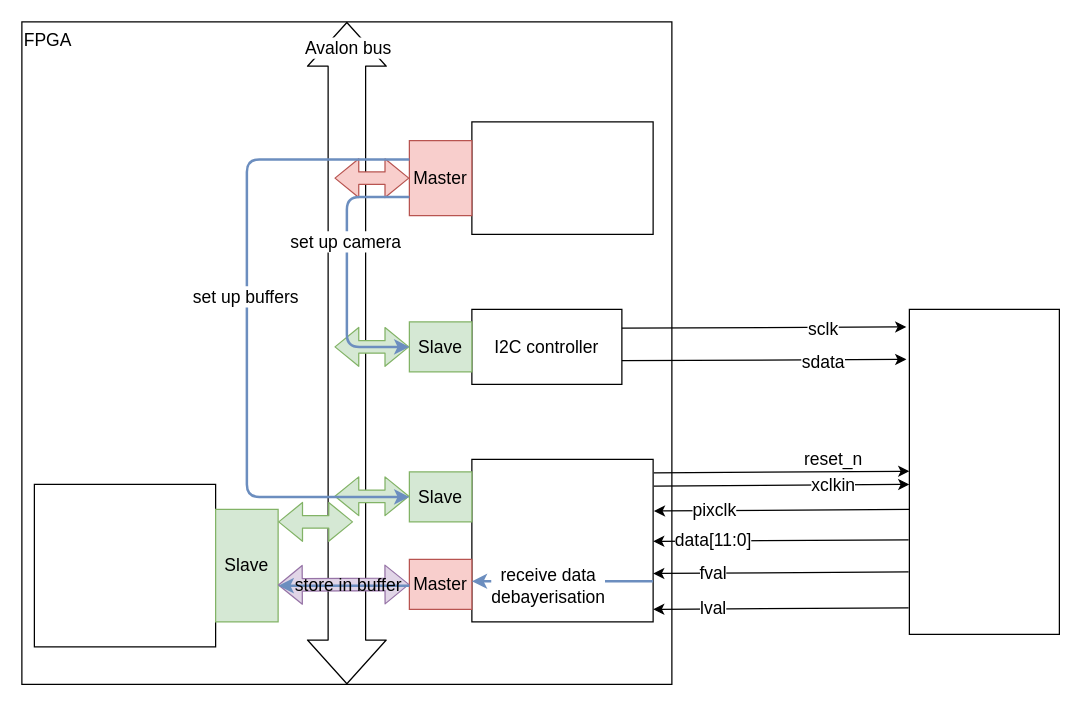
Image size: 1081x706. Some labels were removed from this diagram. The centre of each missing label's shape, as x and y in pixels:
Camera (TRDB-D5M): the point at 983,471
Camera controller: the point at 562,540
NIOS-II processor: the point at 562,177
SDRAM controller: the point at 124,565
